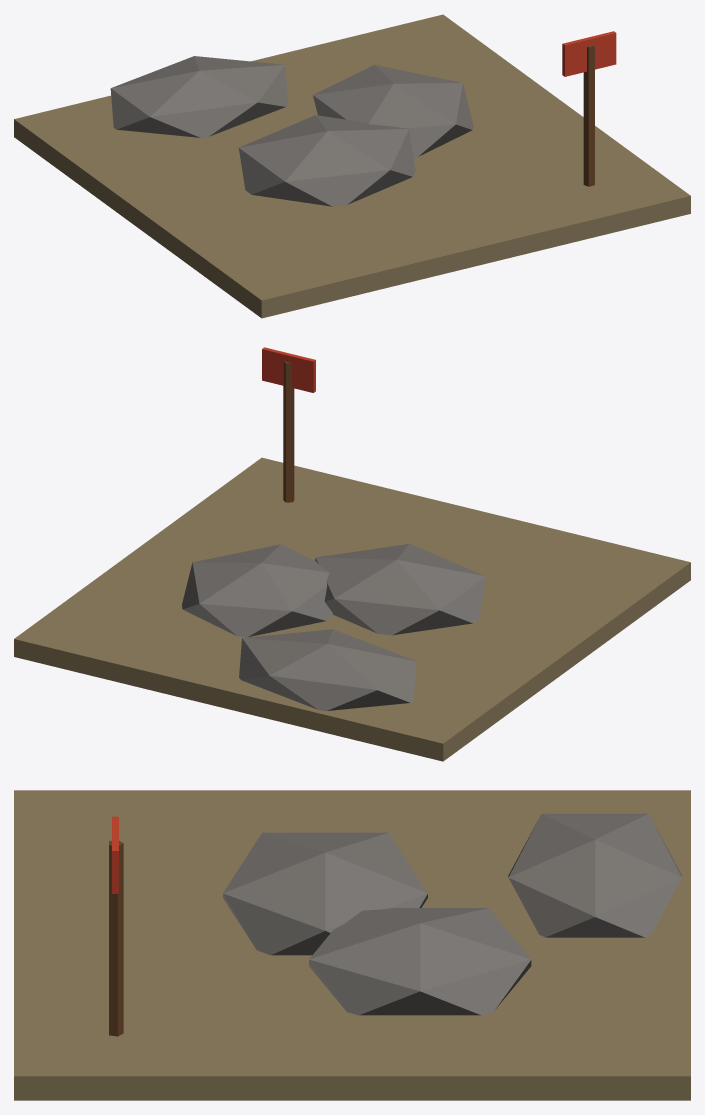
The model's file is Deposit_Starlight_Depleted.fbx.
The picture shows the model from 3 angles, top to bottom: view 1: azimuth 30°, elevation 25°; view 2: azimuth 150°, elevation 25°; view 3: azimuth 270°, elevation 25°; orthographic projection. The views are drawn at different scales.
Parts seen in each view (by area): view 1: Deposit_Starlight_Depleted_Body; view 2: Deposit_Starlight_Depleted_Body; view 3: Deposit_Starlight_Depleted_Body.
Part boxes in pixels (left/top/right/bottom): Deposit_Starlight_Depleted_Body: left=14, top=14, right=690, bottom=318; Deposit_Starlight_Depleted_Body: left=14, top=347, right=690, bottom=761; Deposit_Starlight_Depleted_Body: left=14, top=790, right=690, bottom=1100.
Bounding box in the file's own units: 1 × 0.3727 × 1.
